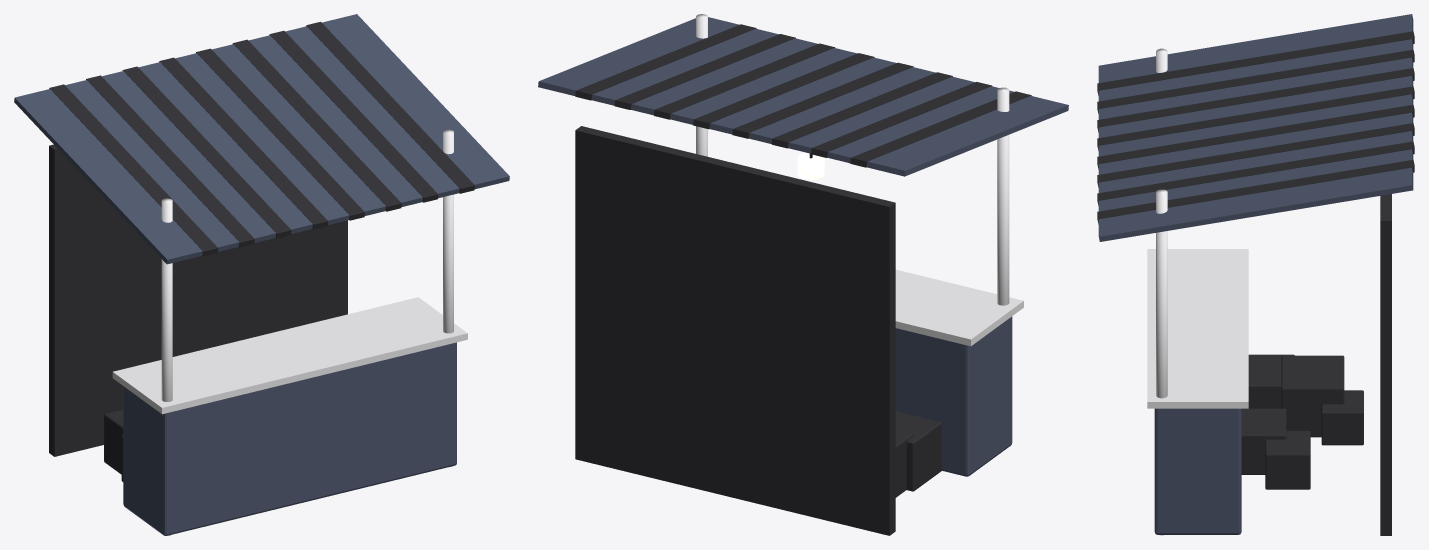
Rendered from SM_Stall8.fbx.
3 views of the same model, side by side, from view 1: azimuth 30°, elevation 25°; view 2: azimuth 150°, elevation 25°; view 3: azimuth 270°, elevation 25° (orthographic). The views are drawn at different scales.
Parts seen in each view (by area): view 1: SM_Stall8; view 2: SM_Stall8; view 3: SM_Stall8.
Part boxes in pixels (x1=…): SM_Stall8: x1=14, y1=14, x2=509, y2=535; SM_Stall8: x1=538, y1=14, x2=1068, y2=535; SM_Stall8: x1=1097, y1=14, x2=1414, y2=535.
Bounding box in the file's own units: 2.19 × 2.8 × 2.77.
